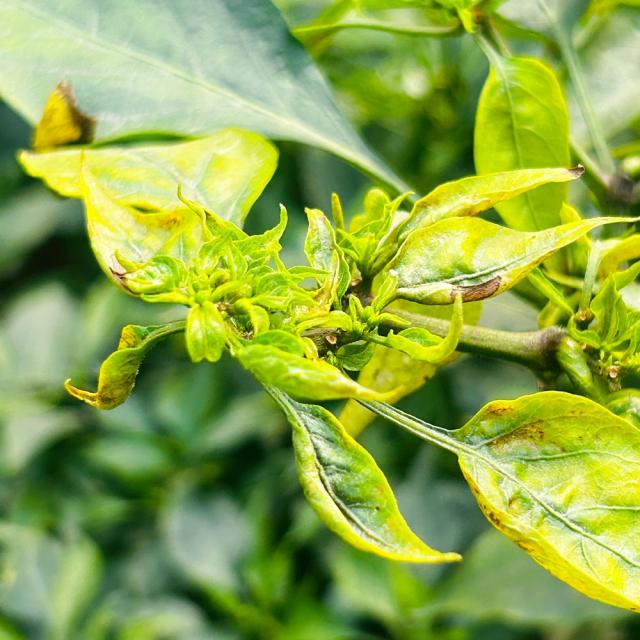Chilli_Leaf_Curl: (3, 1, 638, 616), (234, 330, 638, 614), (1, 0, 417, 204), (233, 332, 463, 566), (16, 124, 280, 298), (452, 388, 639, 614), (368, 162, 636, 308)
